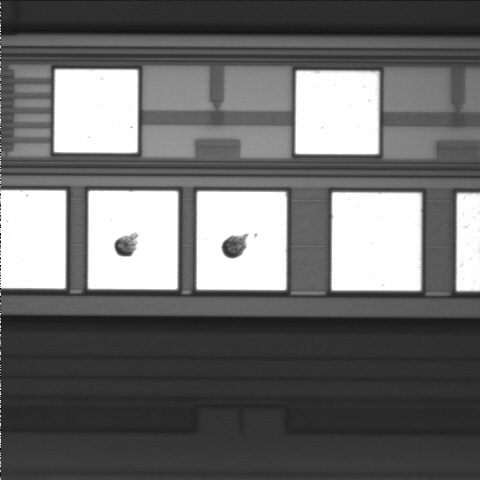pad: (197, 191, 287, 290), (88, 191, 178, 289), (332, 192, 421, 291), (54, 69, 138, 153), (295, 71, 379, 154)
